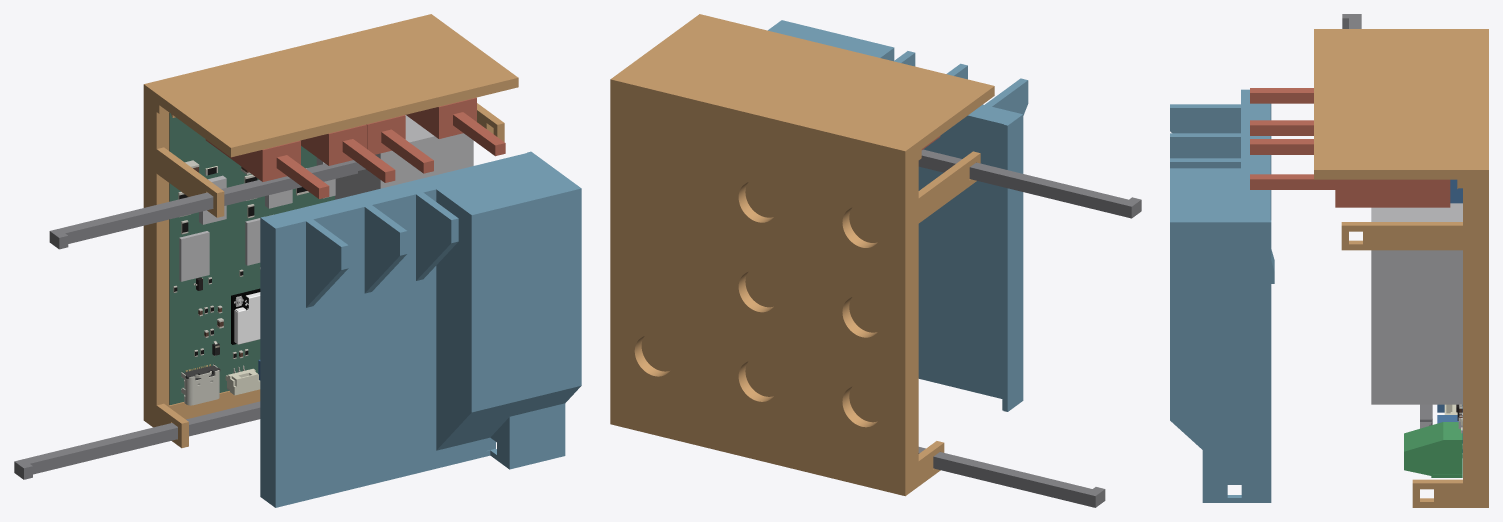
The model's file is exploded.glb.
3 renders of one model, left to right at view 1: azimuth 30°, elevation 25°; view 2: azimuth 150°, elevation 25°; view 3: azimuth 270°, elevation 25°, orthographic. The views are drawn at different scales.
Visible parts, largest first — view 1: holder_cover, holder_frame, _3d PCB, holder_bars_assembled, geometry_189, J15 receptacle, J12 receptacle, J14 receptacle, geometry_190, ESP32-C6-MINI-1U_V1_20230712_20230715, USB_C_Receptacle_16P_TopMnt_Horizontal_GCT_USB4105-xx-A_2, J15 wire (+6 smaller); view 2: holder_frame, holder_cover, holder_bars_assembled; view 3: holder_frame, holder_cover, geometry_189, J12 receptacle, TerminalBlock_Phoenix_MKDS_15_2_508_1x02_P508mm_Horizontal, J12 wire, J13 wire, J14 wire, J15 wire, holder_bars_assembled.
Boxes of the visible parts, bbox=[...] form: holder_cover: bbox=[260, 151, 581, 507]; holder_frame: bbox=[143, 14, 518, 448]; _3d PCB: bbox=[169, 113, 334, 404]; holder_bars_assembled: bbox=[14, 160, 366, 479]; geometry_189: bbox=[335, 115, 473, 199]; J15 receptacle: bbox=[205, 139, 300, 181]; J12 receptacle: bbox=[406, 97, 476, 138]; J14 receptacle: bbox=[300, 124, 366, 165]; geometry_190: bbox=[179, 231, 209, 281]; ESP32-C6-MINI-1U_V1_20230712_20230715: bbox=[234, 292, 260, 344]; USB_C_Receptacle_16P_TopMnt_Horizontal_GCT_USB4105-xx-A_2: bbox=[181, 364, 219, 405]; J15 wire: bbox=[276, 155, 329, 198]; holder_frame: bbox=[610, 14, 994, 496]; holder_cover: bbox=[768, 20, 1028, 411]; holder_bars_assembled: bbox=[918, 149, 1141, 507]; holder_frame: bbox=[1314, 29, 1488, 507]; holder_cover: bbox=[1170, 89, 1274, 502]; geometry_189: bbox=[1371, 203, 1462, 404]; J12 receptacle: bbox=[1335, 179, 1450, 207]; TerminalBlock_Phoenix_MKDS_15_2_508_1x02_P508mm_Horizontal: bbox=[1404, 422, 1462, 477]; J12 wire: bbox=[1250, 174, 1335, 189]; J13 wire: bbox=[1250, 139, 1313, 154]; J14 wire: bbox=[1250, 120, 1313, 135]; J15 wire: bbox=[1250, 88, 1313, 103]; holder_bars_assembled: bbox=[1342, 14, 1432, 428].
Bounding box in the file's own units: 121 × 87.6 × 74.9.
